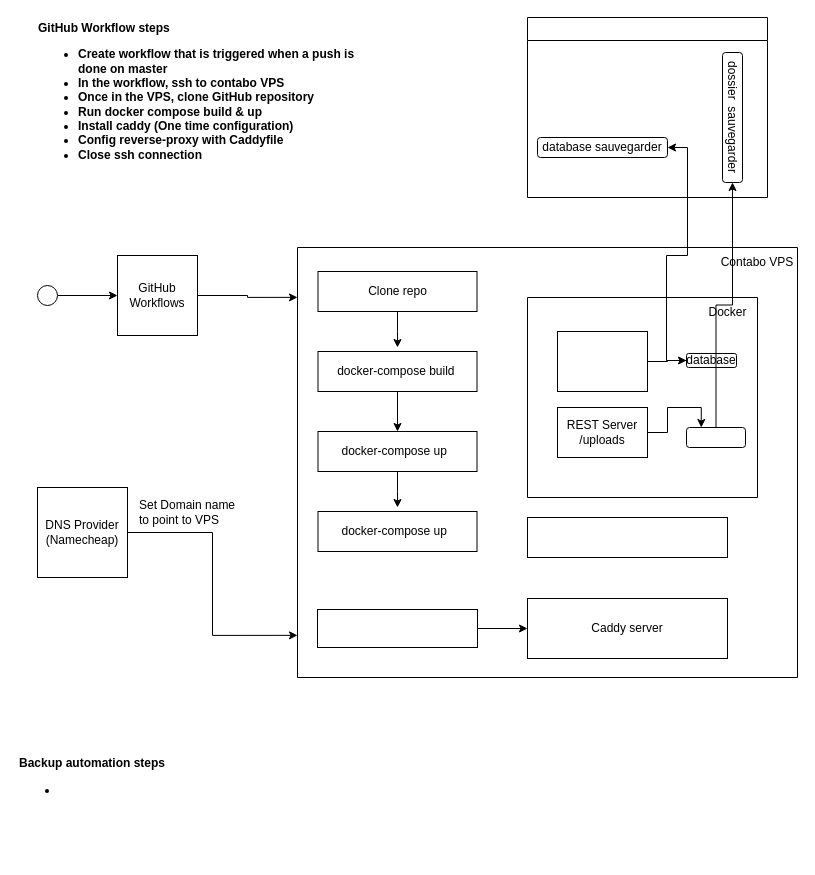
Image size: 815x875. Some labels were removed from this diagram. The shapes that lost their labels are listed below. From the top down, each one's centre as x and y in pixels, then its label:
At point (647, 107): "Contabo Backup space".
At point (602, 361): "Mongo".
At point (716, 437): "upload dir".
At point (627, 537): "mongodb-database-tools".
At point (397, 628): "adjust caddy configuration".
